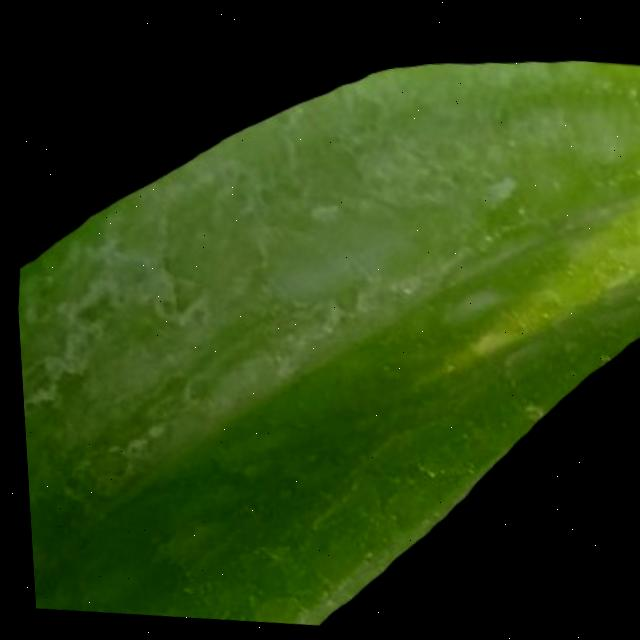mite: (249, 188, 425, 322), (55, 438, 126, 505), (440, 283, 504, 334), (473, 172, 515, 217)
spots: (14, 23, 640, 629)
sunburn: (268, 276, 640, 629)
